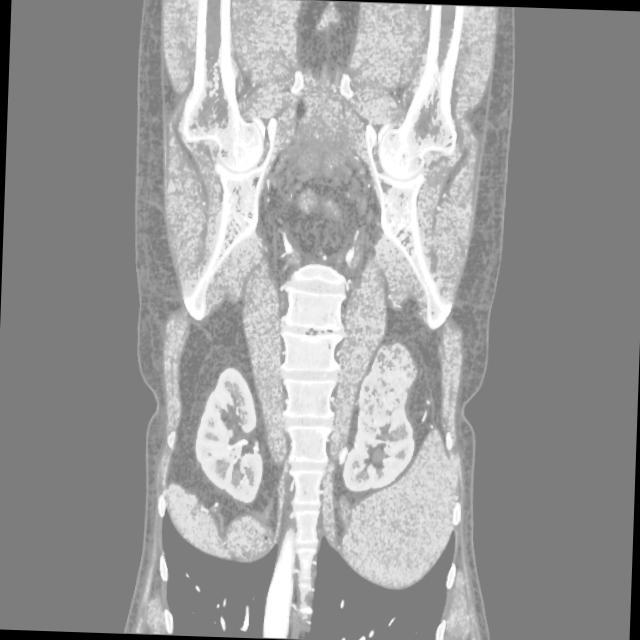TUMOR: (163, 315, 478, 495)
